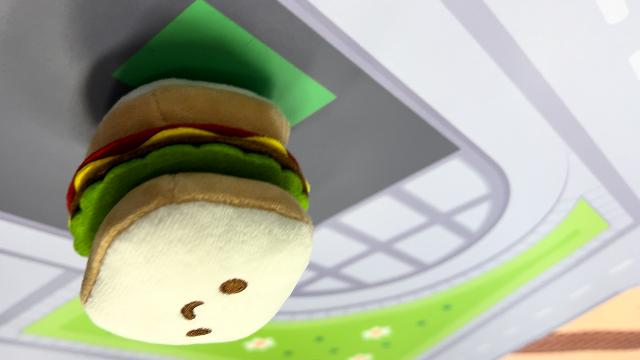sandwich: (64, 75, 318, 345)
